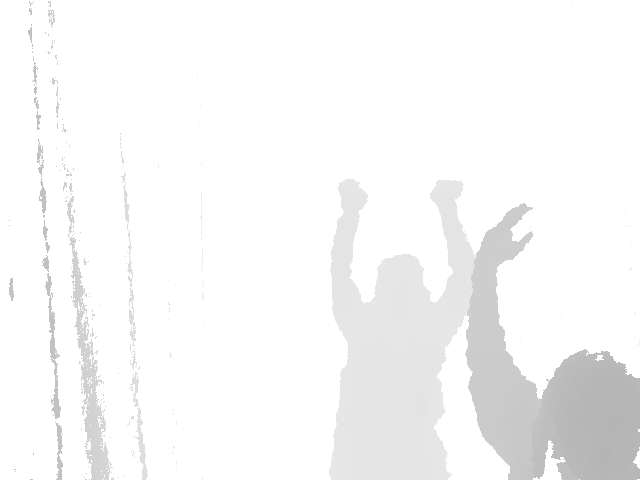hand: (472, 204, 535, 269), (337, 179, 368, 212), (430, 179, 464, 203)
head: (535, 350, 640, 480), (375, 255, 432, 309)
person: (464, 204, 640, 480), (326, 179, 476, 480)
